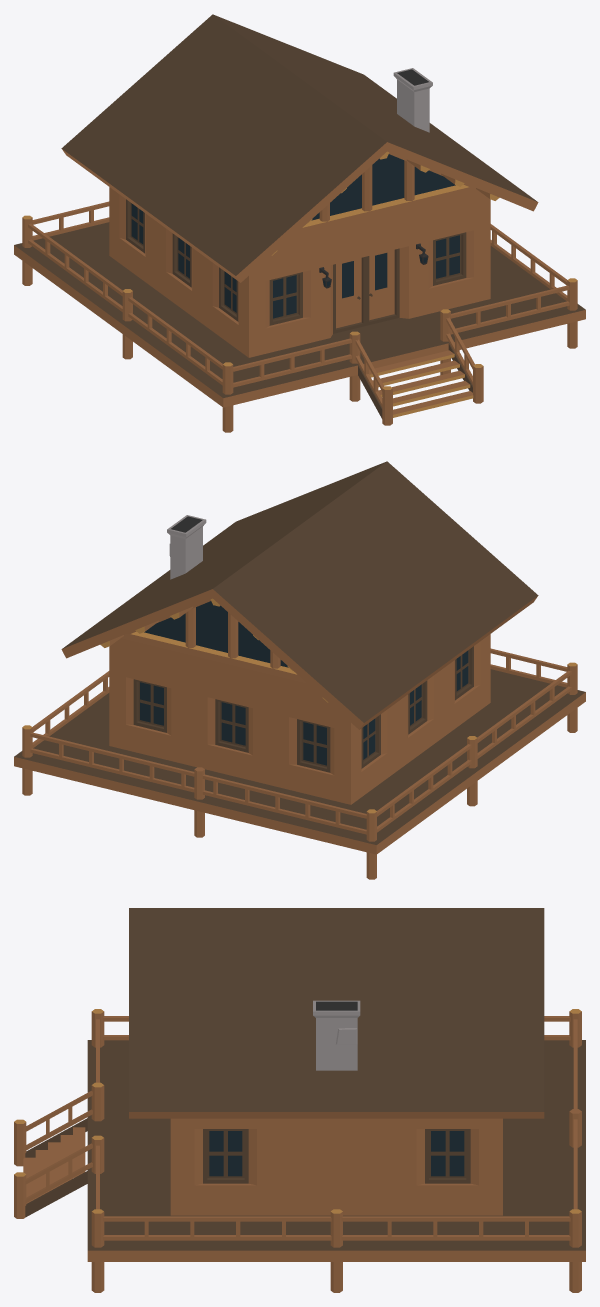
Rendered from building-cabin-big.glb.
3 views of the same model, one above another, from view 1: azimuth 30°, elevation 25°; view 2: azimuth 150°, elevation 25°; view 3: azimuth 270°, elevation 25° (orthographic). The views are drawn at different scales.
Visible parts, largest first — view 1: building-cabin-big; view 2: building-cabin-big; view 3: building-cabin-big.
Boxes of the visible parts, left/top/right/bottom form: building-cabin-big: left=14, top=14, right=585, bottom=432; building-cabin-big: left=14, top=461, right=585, bottom=879; building-cabin-big: left=14, top=908, right=585, bottom=1292.
Bounding box in the file's own units: 12 × 7.5 × 13.77.
Materials: 1 (1 with a texture image).
